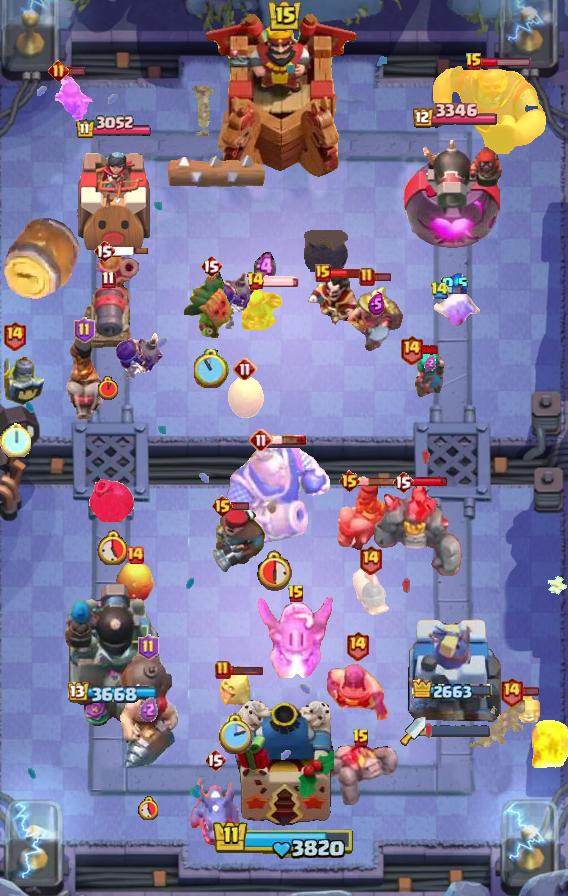archer-evolution: (55, 76, 95, 128)
bar: (358, 476, 410, 487), (481, 57, 532, 68), (262, 275, 300, 287), (271, 434, 307, 446), (412, 476, 449, 487), (229, 665, 264, 676), (329, 268, 363, 279), (113, 246, 149, 256), (446, 285, 468, 296), (421, 344, 440, 356), (521, 686, 540, 697), (231, 501, 250, 511), (373, 272, 392, 282), (67, 66, 86, 76)
bar-level: (499, 676, 524, 707), (345, 630, 370, 661), (358, 544, 383, 575), (399, 334, 424, 365), (2, 320, 27, 351), (249, 428, 273, 452), (233, 357, 257, 381), (211, 494, 234, 518), (338, 469, 361, 493), (138, 634, 159, 660), (74, 317, 95, 343), (204, 748, 226, 772), (392, 470, 414, 494), (200, 254, 222, 278), (93, 239, 115, 263), (48, 60, 69, 81), (125, 545, 145, 565), (246, 271, 265, 291), (430, 281, 449, 300), (352, 728, 370, 748), (287, 584, 305, 604), (465, 52, 483, 72), (215, 660, 231, 680), (359, 267, 375, 287), (315, 264, 331, 282), (101, 270, 116, 289)
bomb: (89, 477, 135, 522), (304, 230, 348, 272)
bomber-evolution: (114, 333, 166, 389), (212, 264, 256, 330)
cannoneer-tower: (63, 579, 165, 731), (400, 132, 507, 256)
clock: (257, 549, 296, 591), (217, 713, 252, 754), (194, 349, 229, 388), (0, 422, 31, 457), (97, 530, 127, 565), (138, 796, 158, 820), (98, 376, 118, 400)
dagger-duchess-tower: (405, 611, 501, 731)
dagger-duchess-tower-bar: (426, 725, 490, 737)
dart-goblin: (182, 268, 240, 344)
dirt: (464, 700, 525, 747), (191, 84, 217, 136)
electro-dragon: (188, 776, 242, 848)
electro-wizard: (306, 273, 358, 327)
elixir: (254, 251, 276, 284), (441, 273, 469, 294), (139, 697, 158, 722), (368, 293, 385, 315), (424, 355, 436, 371)
executioner: (325, 664, 389, 724)
golemite: (324, 743, 398, 805)
guard: (0, 349, 46, 407)
heal-spirit: (216, 666, 252, 708)
hunter: (210, 506, 268, 576)
ice-spirit-evolution: (430, 290, 480, 328)
king-tower: (205, 11, 363, 181), (234, 700, 334, 826)
king-tower-bar: (212, 819, 356, 861)
lava-pup: (514, 692, 544, 726)
miner: (347, 281, 405, 351)
musketeer: (97, 249, 139, 319)
phoenix-egg: (226, 372, 264, 420), (115, 561, 155, 605)
queen-tower: (71, 145, 157, 256)
ram-rider: (332, 477, 392, 551), (62, 335, 106, 421)
rascal-girl: (412, 348, 448, 400)
royal-hog: (349, 565, 391, 623)
spear-goblin: (242, 286, 288, 330)
the-log: (166, 151, 266, 193)
tower-bar: (410, 103, 497, 130), (68, 682, 160, 705), (412, 679, 494, 703), (75, 115, 153, 140)
